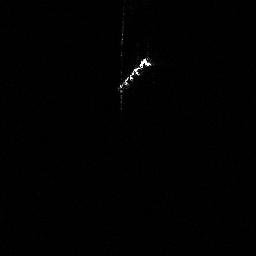ship: (113, 52, 155, 97)
